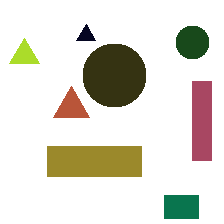circle: (83, 44, 145, 106), (176, 26, 208, 58)
rectangle: (47, 146, 141, 176), (192, 81, 211, 160), (164, 195, 198, 218)
triangle: (53, 86, 89, 117), (9, 38, 39, 63), (76, 24, 95, 40)
